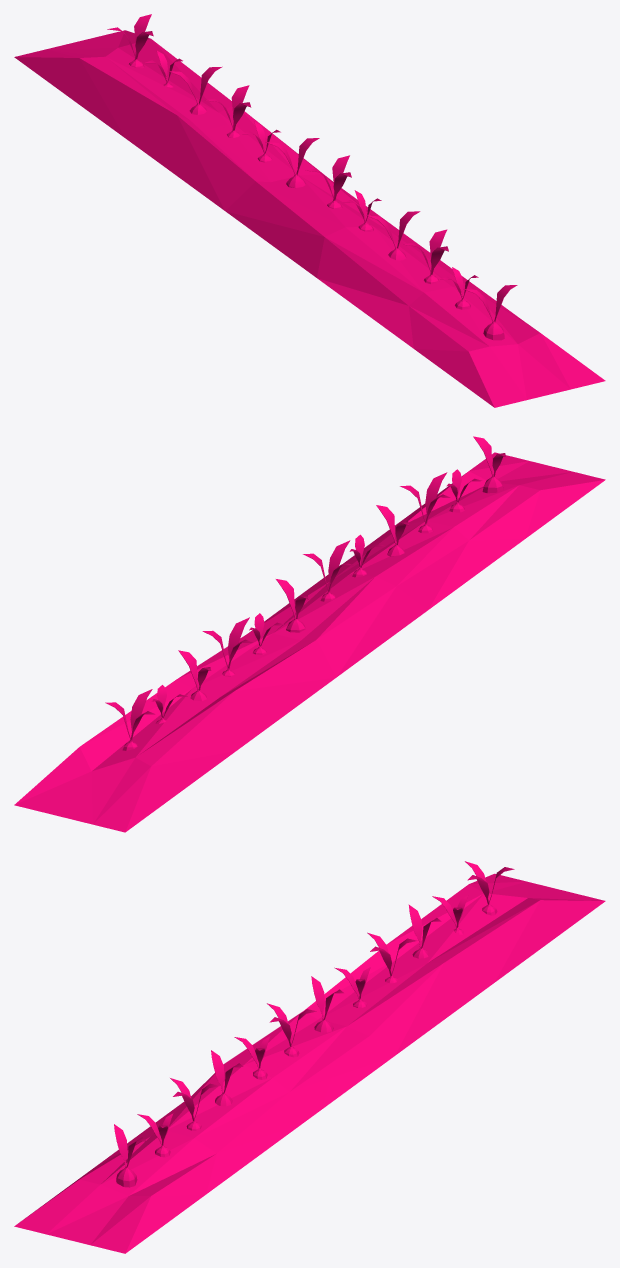
The model's file is SM_SS_Carrots_garden.fbx.
The picture shows the model from 3 angles, top to bottom: view 1: azimuth 30°, elevation 25°; view 2: azimuth 150°, elevation 25°; view 3: azimuth 330°, elevation 25°; orthographic projection.
Parts seen in each view (by area): view 1: SM_SS_Carrots_garden; view 2: SM_SS_Carrots_garden; view 3: SM_SS_Carrots_garden.
Part boxes in pixels (bbox=[...]): SM_SS_Carrots_garden: bbox=[14, 14, 605, 407]; SM_SS_Carrots_garden: bbox=[14, 436, 605, 832]; SM_SS_Carrots_garden: bbox=[14, 861, 605, 1253].
Bounding box in the file's own units: 34.44 × 255 × 21.04.
